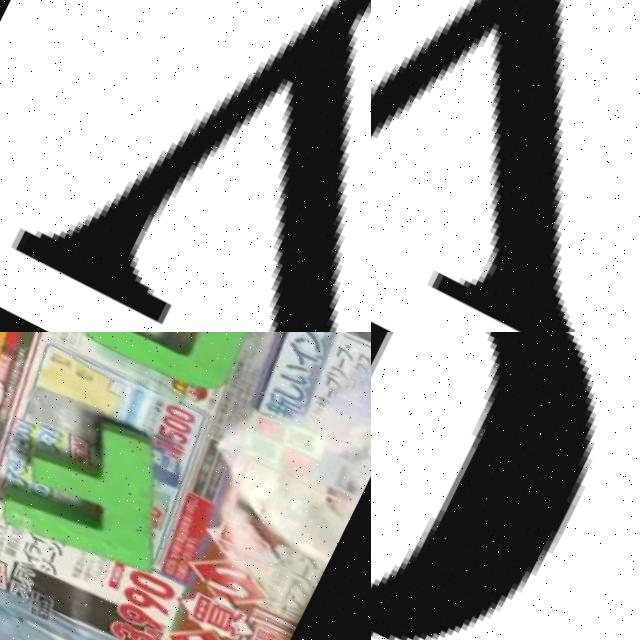C: (51, 332, 275, 403)
D: (371, 332, 640, 640)
F: (0, 388, 194, 583)
Y: (0, 0, 371, 332), (371, 0, 640, 332)
